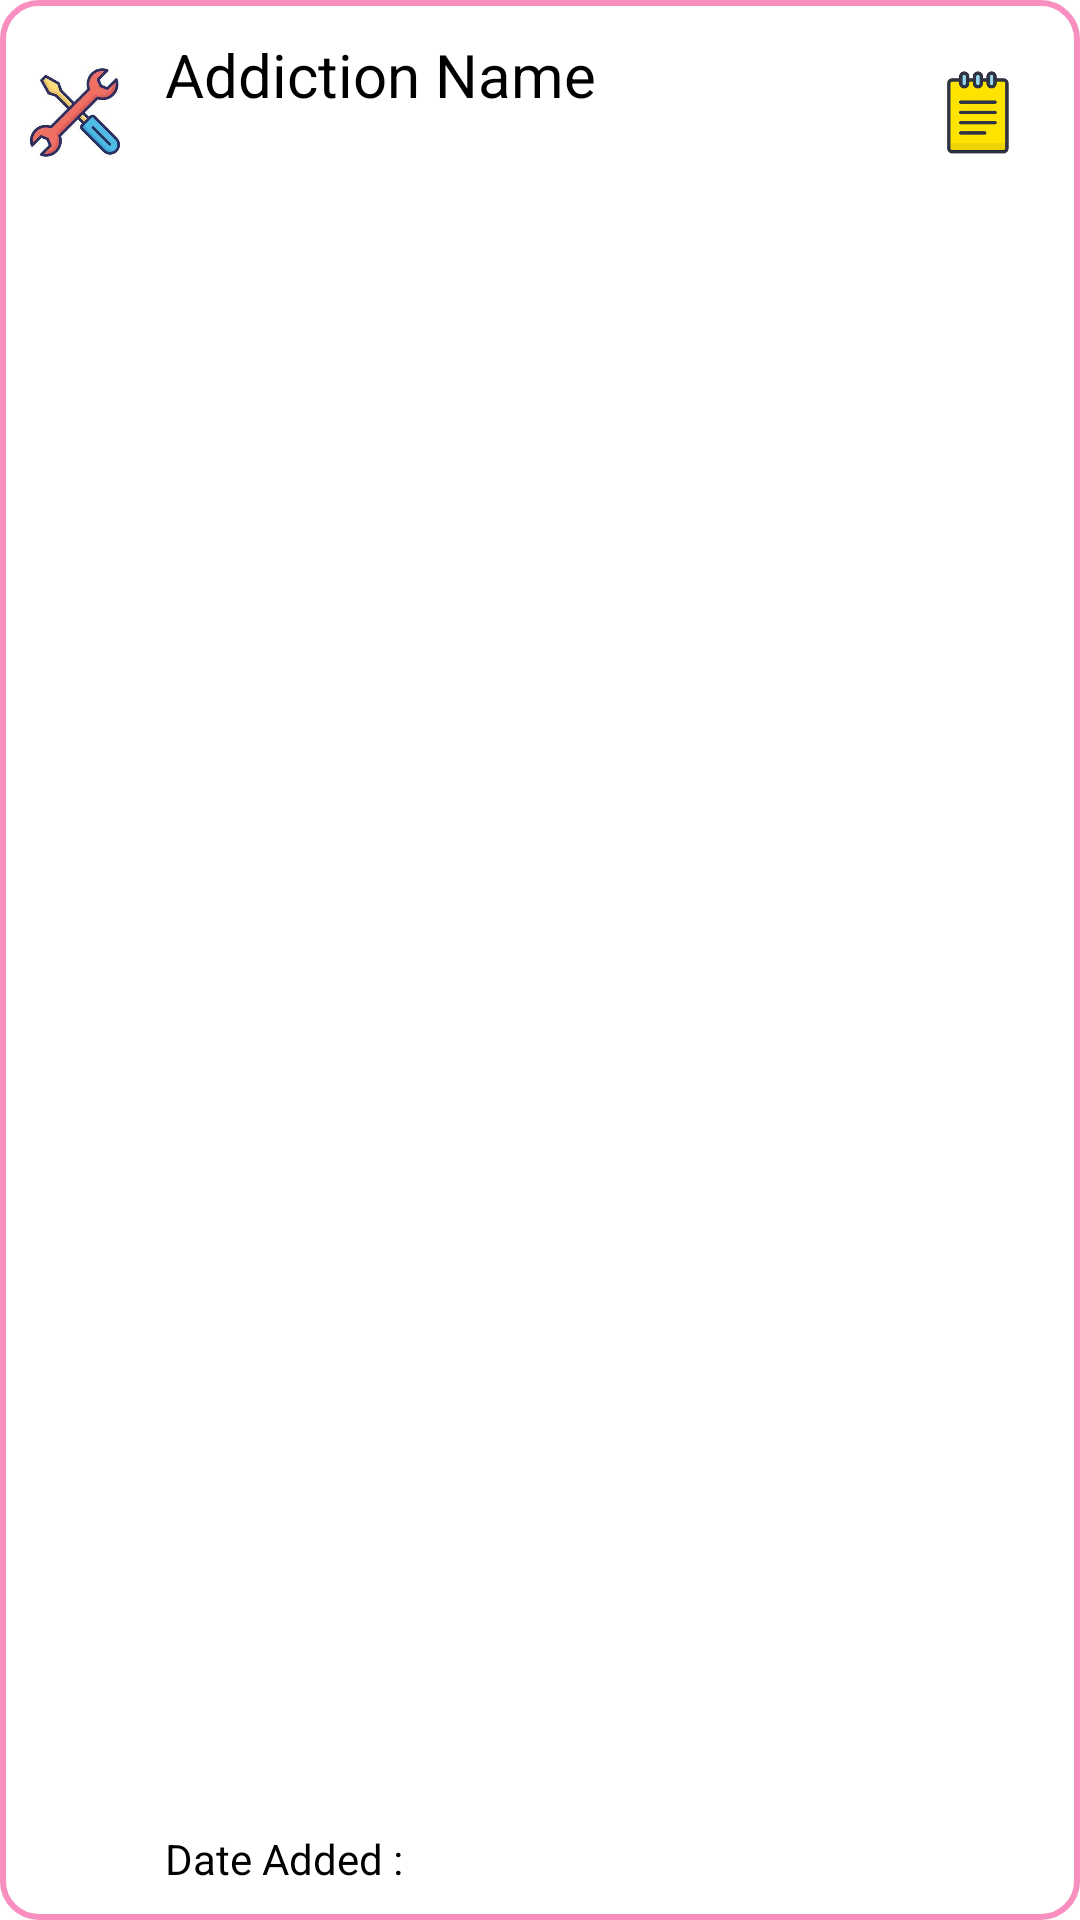

Named icons in this screenshot (1080w x 1920h) and their centers, point (x, y):
note: point (978, 112)
repair: point (75, 112)
